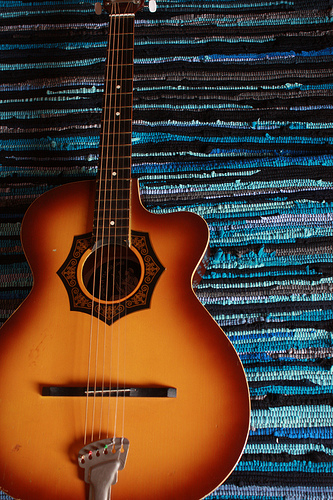guitar: (1, 1, 253, 498)
